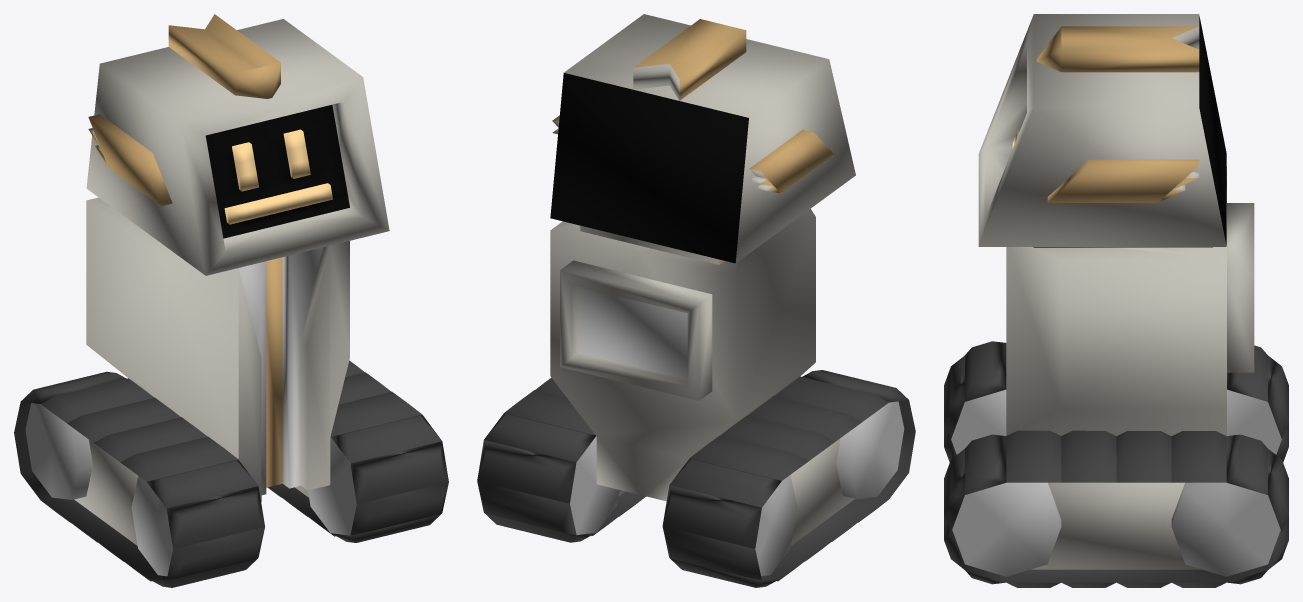
Rendered from Robot1.fbx.
The picture shows the model from 3 angles, left to right: view 1: azimuth 30°, elevation 25°; view 2: azimuth 150°, elevation 25°; view 3: azimuth 270°, elevation 25°; orthographic projection. The views are drawn at different scales.
Visible parts, largest first — view 1: Head, Cylinder, Torso; view 2: Head, Cylinder, Torso; view 3: Cylinder, Head, Torso.
Boxes of the visible parts, left/top/right/bottom form: Head: left=86, top=14, right=389, bottom=275; Cylinder: left=14, top=360, right=448, bottom=587; Torso: left=86, top=197, right=349, bottom=501; Head: left=550, top=14, right=855, bottom=264; Cylinder: left=477, top=370, right=915, bottom=587; Torso: left=550, top=209, right=815, bottom=501; Cylinder: left=944, top=341, right=1288, bottom=587; Head: left=978, top=14, right=1226, bottom=247; Torso: left=1006, top=166, right=1254, bottom=436.
Bounding box in the file's own units: 3 × 4.85 × 3.13.
